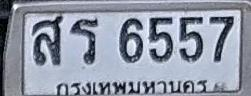5: (149, 16, 173, 62), (179, 16, 203, 62)
6: (119, 16, 143, 62)
7: (209, 14, 234, 62)
A35: (70, 18, 98, 64)
A40: (32, 14, 63, 65)
BKK: (53, 77, 212, 96)
